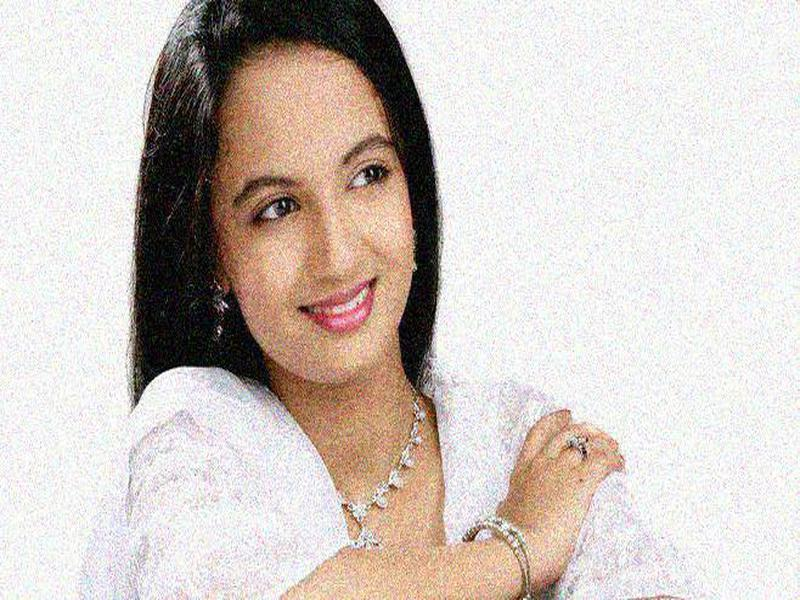without_mask: (212, 85, 414, 383)
